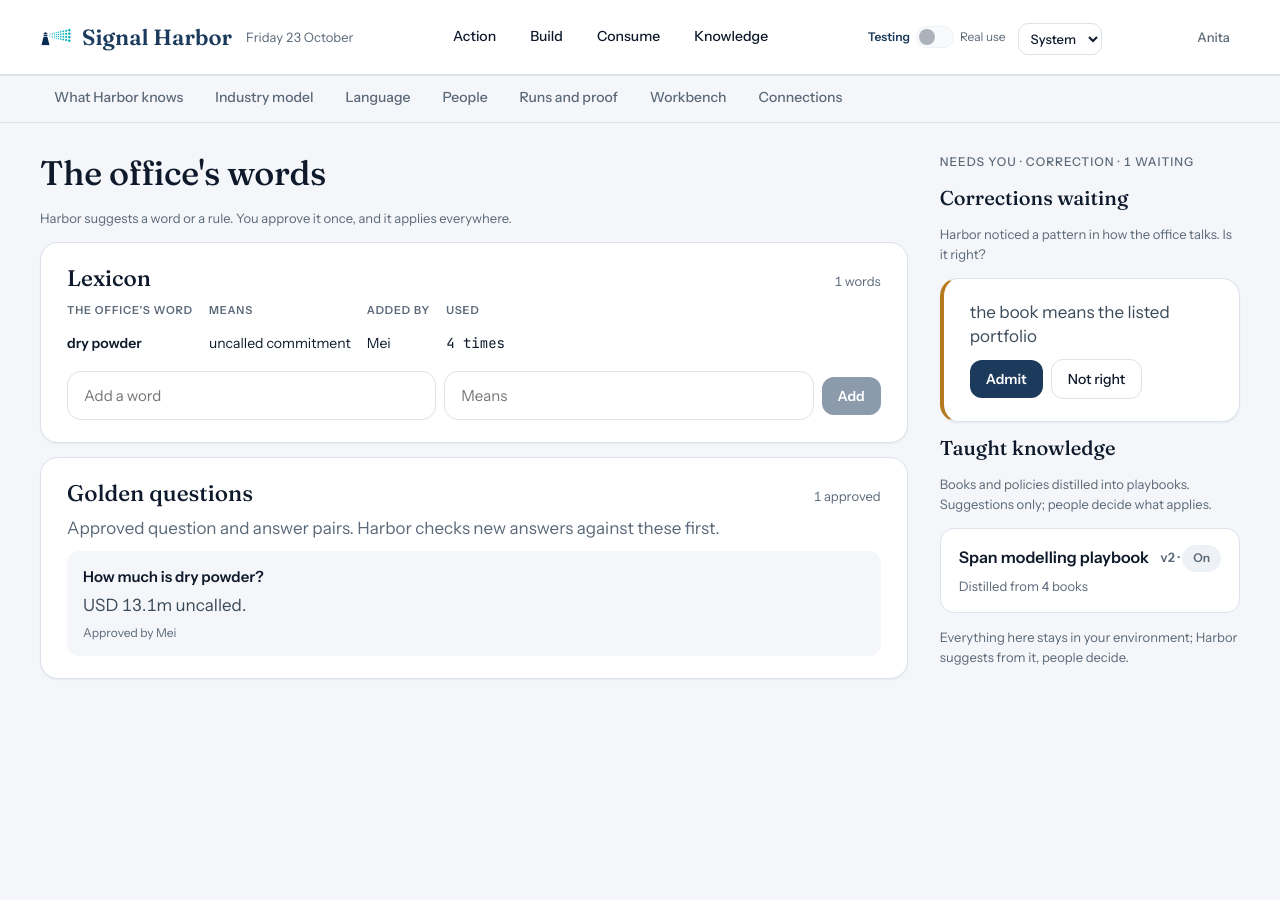
Test: shows words, golden questions and playbooks; adding a word posts it
Expected: the text "dry powder" is shown, [67,334,142,352]
Expected: the text "How much is dry powder?" is shown, [83,567,264,586]
Type "EG-B" into the field labelled "word" at (252,396), box [67,371,436,420]
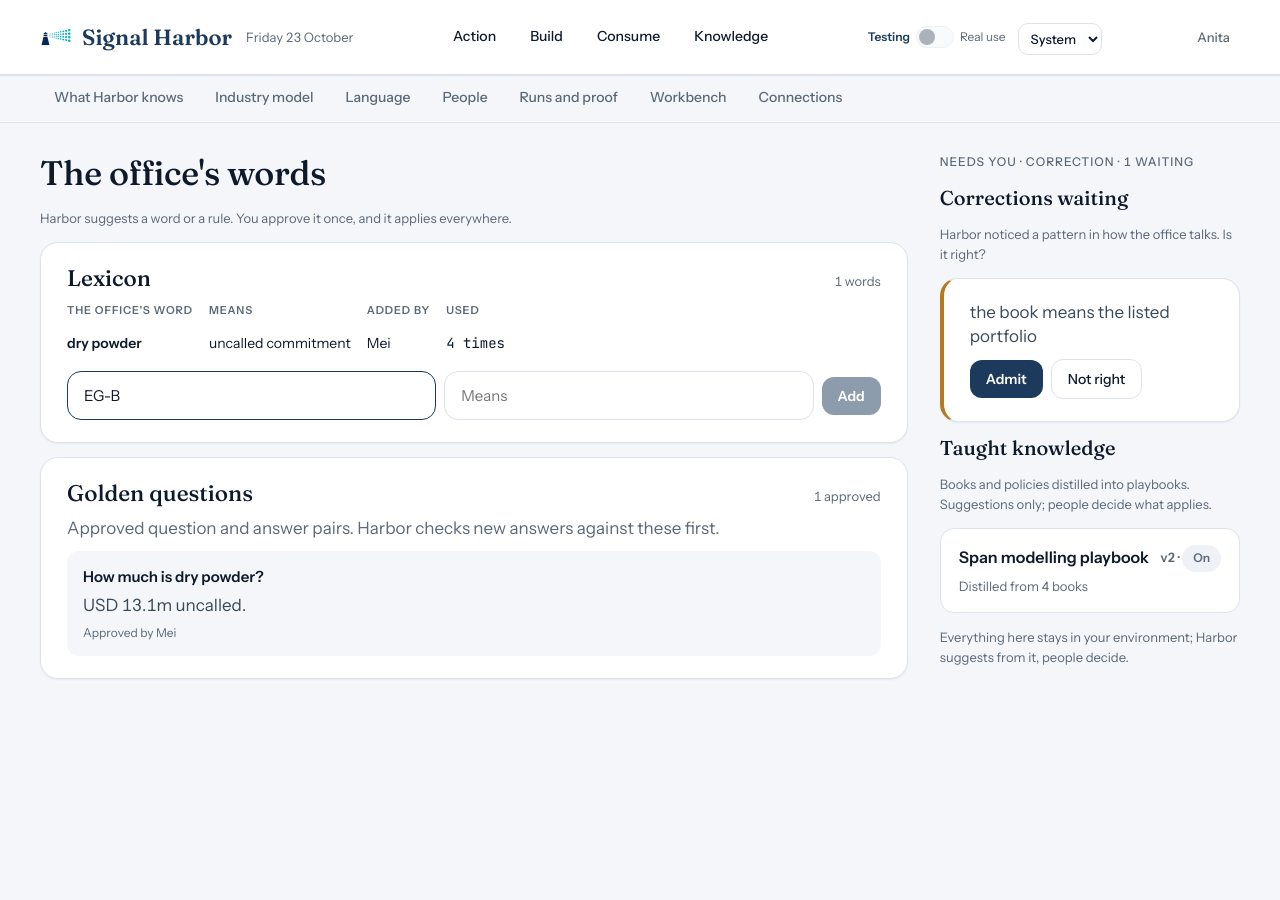
Type "Entity B" into the field labelled "Means" at (629,396), box [444,371,814,420]
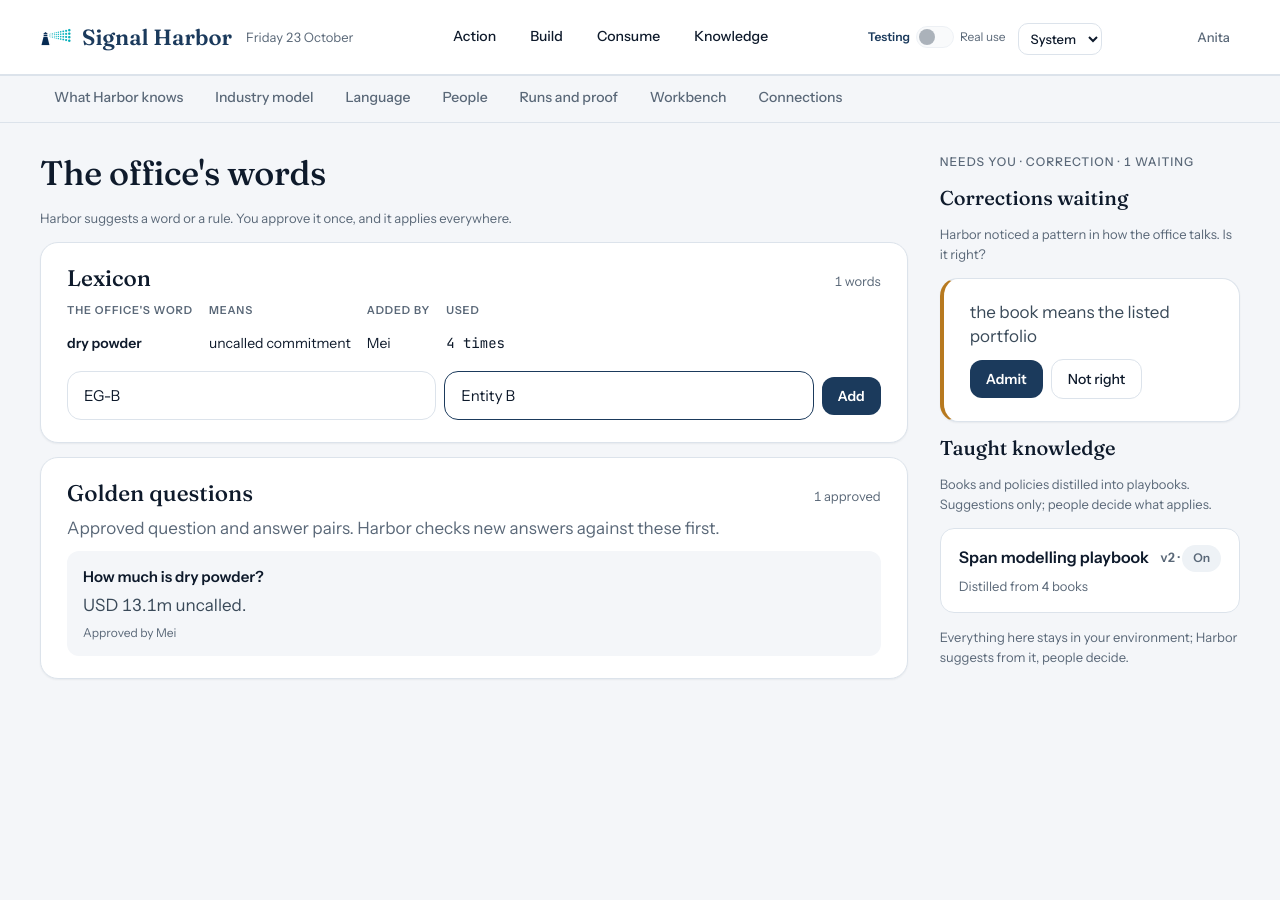
Click the button "Add" at (851,396), box [822,376,881,414]
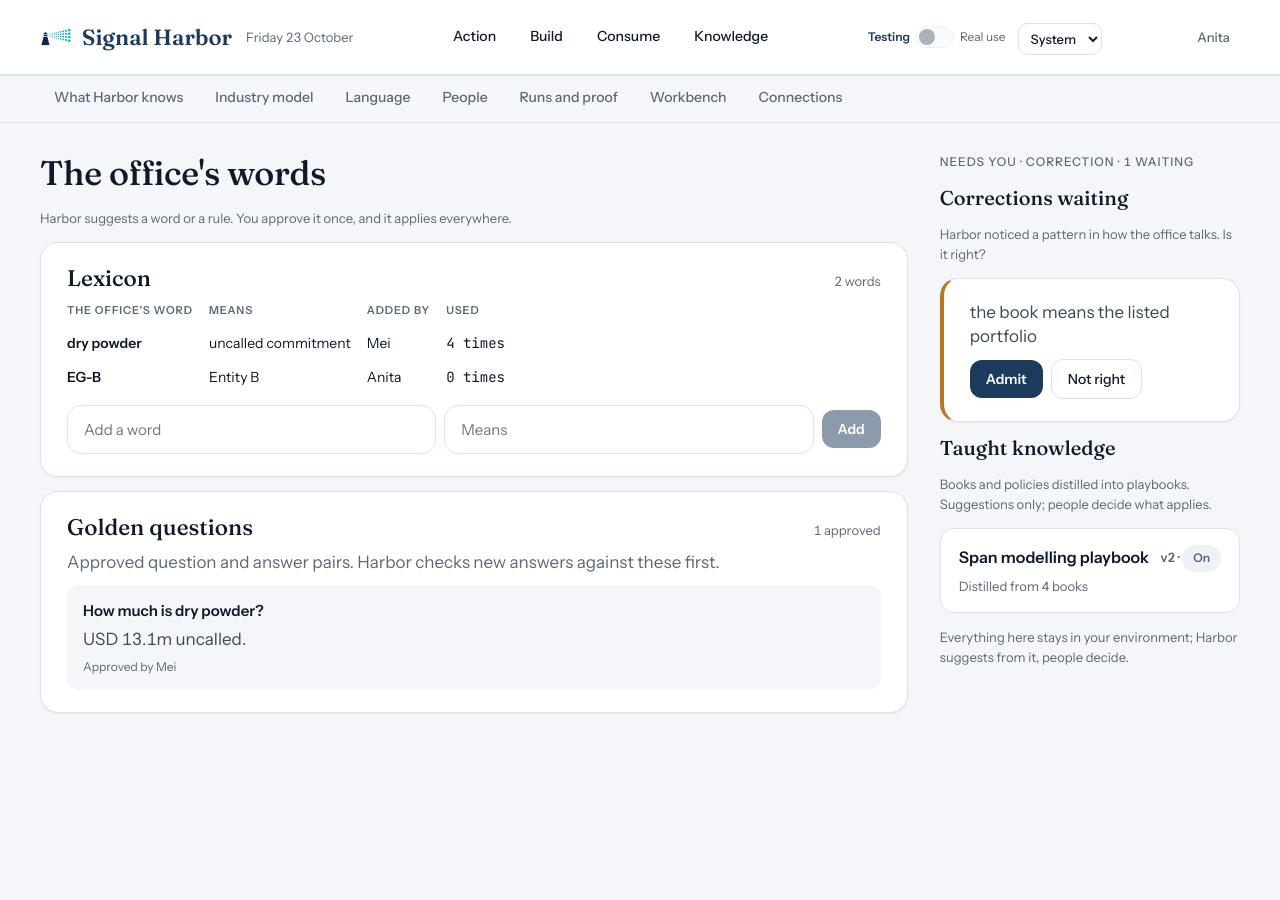
Result: the text "EG-B" is shown at [67,368,101,386]
